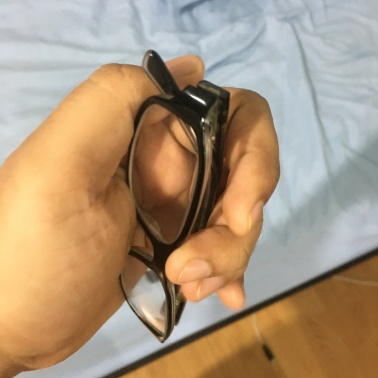glasses: (103, 61, 226, 343)
